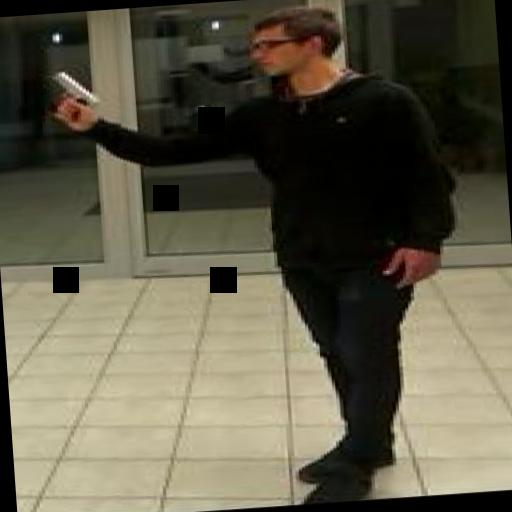Handgun: (42, 66, 104, 126)
